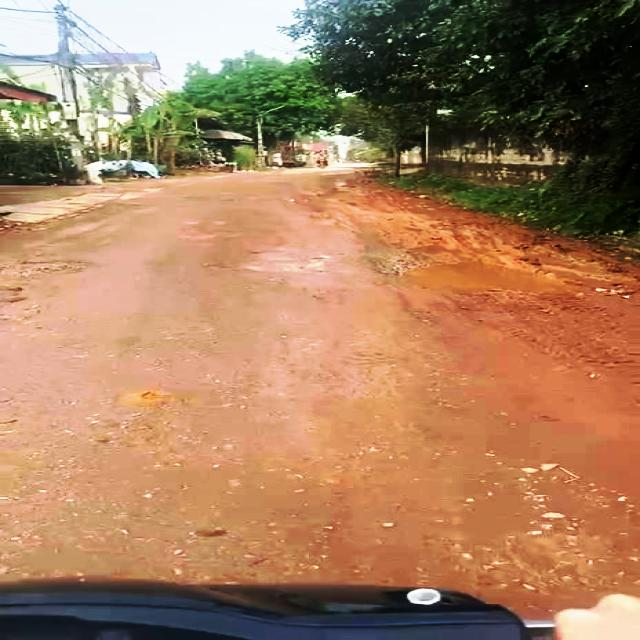pothole: (388, 256, 572, 298), (0, 258, 105, 282)
